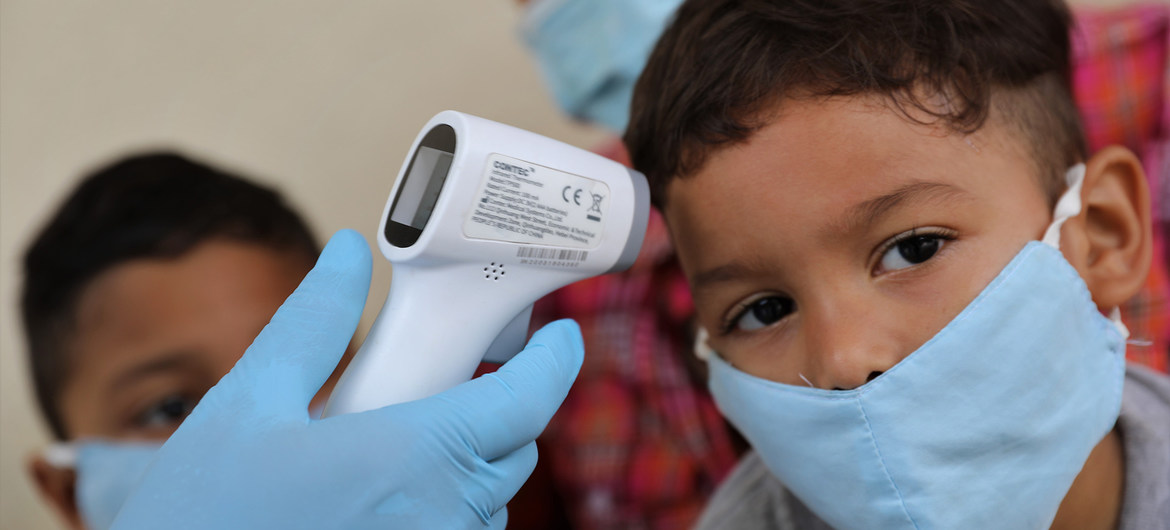with_incorrect_mask: (697, 182, 1115, 517)
